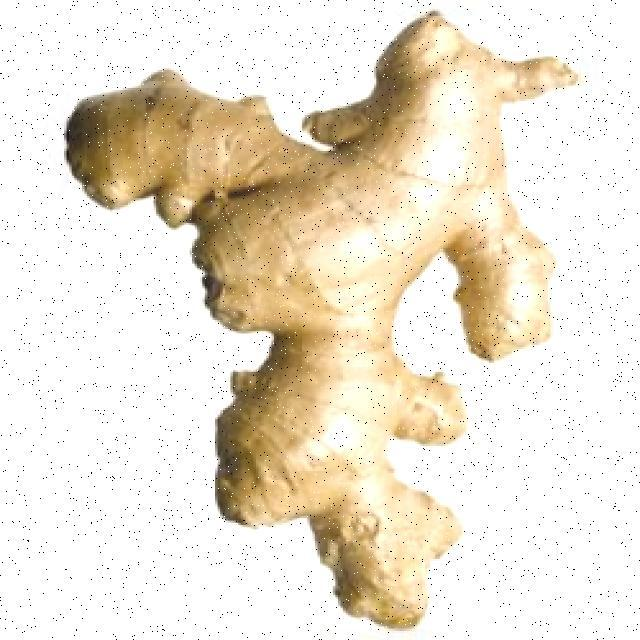ginger: (68, 15, 577, 627)
